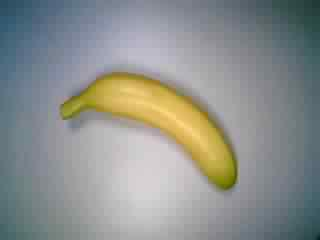banana: (54, 59, 240, 195)
